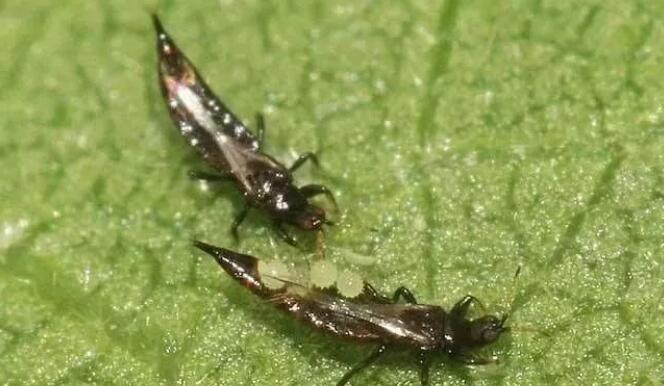Phlaeothripidae: (190, 235, 549, 386), (150, 12, 340, 246)
